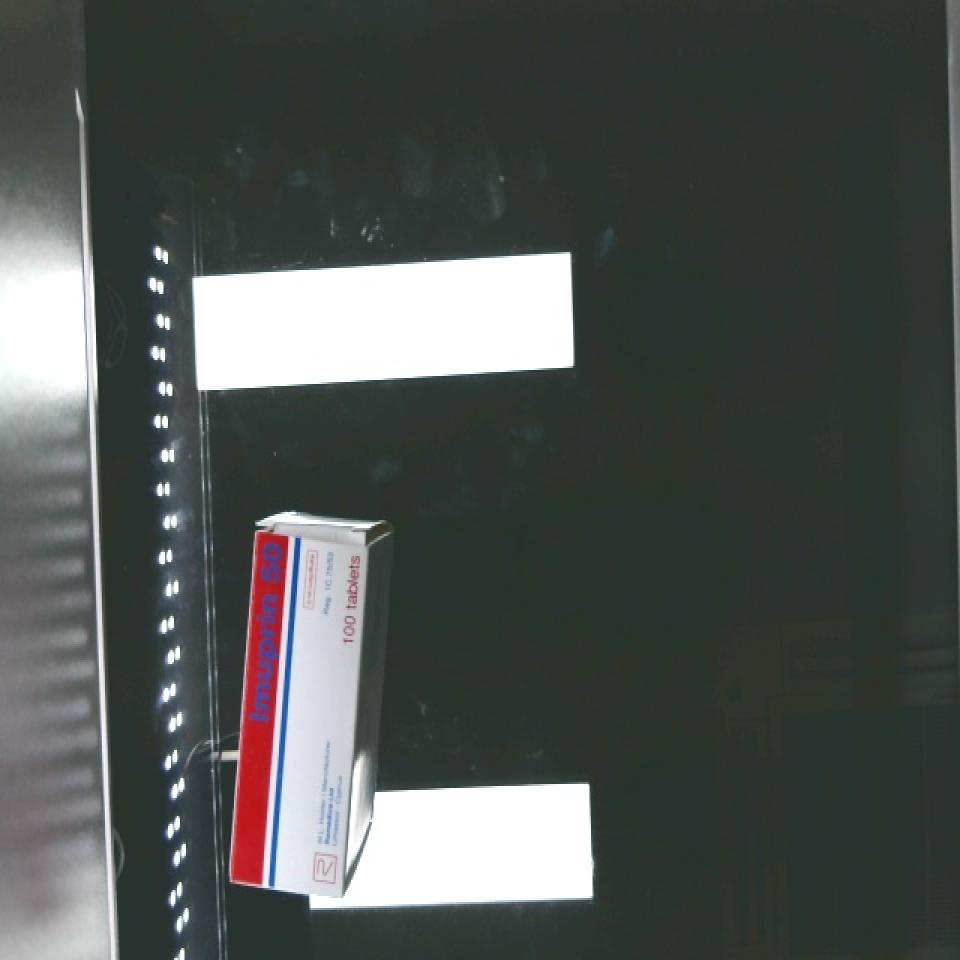medicine_box: (224, 520, 377, 896)
medicine_label_obb: (237, 522, 300, 732)
